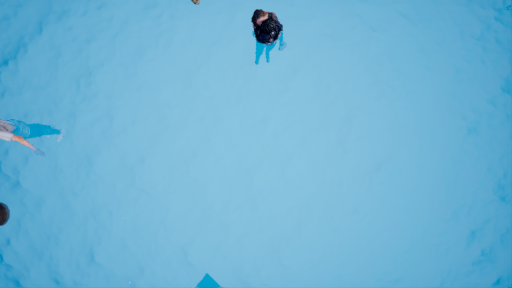person: (246, 4, 288, 72)
